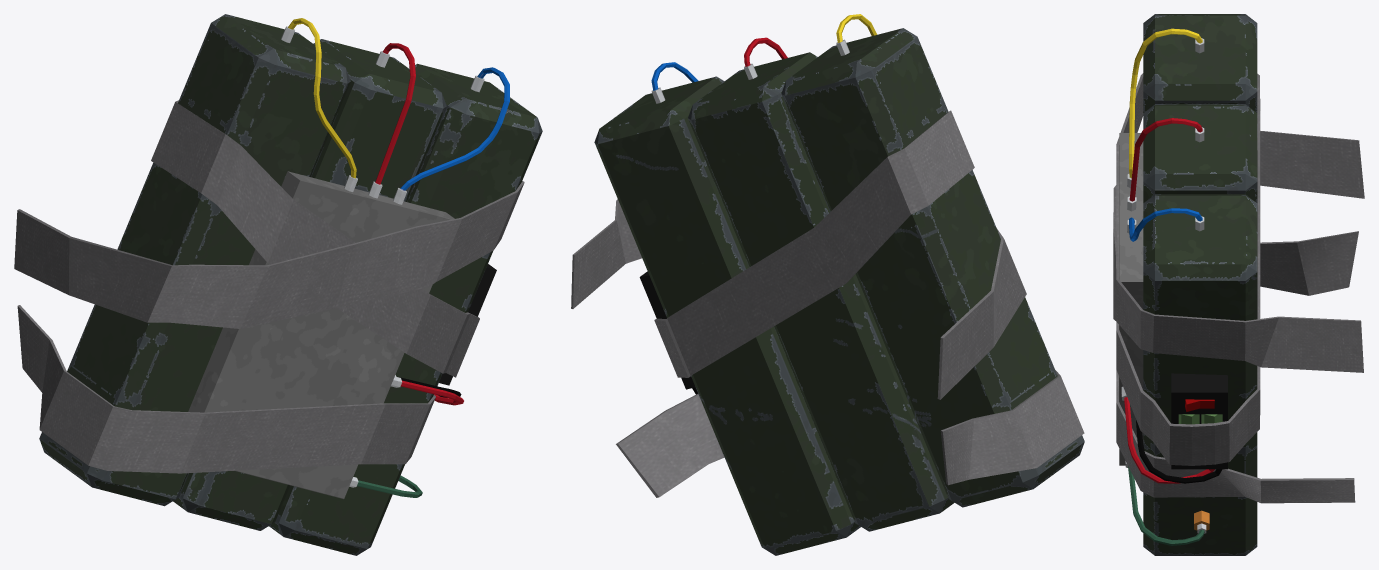
The picture shows the model from 3 angles, left to right: view 1: azimuth 30°, elevation 25°; view 2: azimuth 150°, elevation 25°; view 3: azimuth 270°, elevation 25°; orthographic projection. The views are drawn at different scales.
Parts seen in each view (by area): view 1: C4 fix UV; view 2: C4 fix UV; view 3: C4 fix UV.
Part boxes in pixels (x1,y1,x2,y2): C4 fix UV: (14, 14, 542, 555); C4 fix UV: (571, 14, 1084, 555); C4 fix UV: (1113, 14, 1364, 555).
Size of the model in its own units: 24.08 by 27.06 by 12.13.
